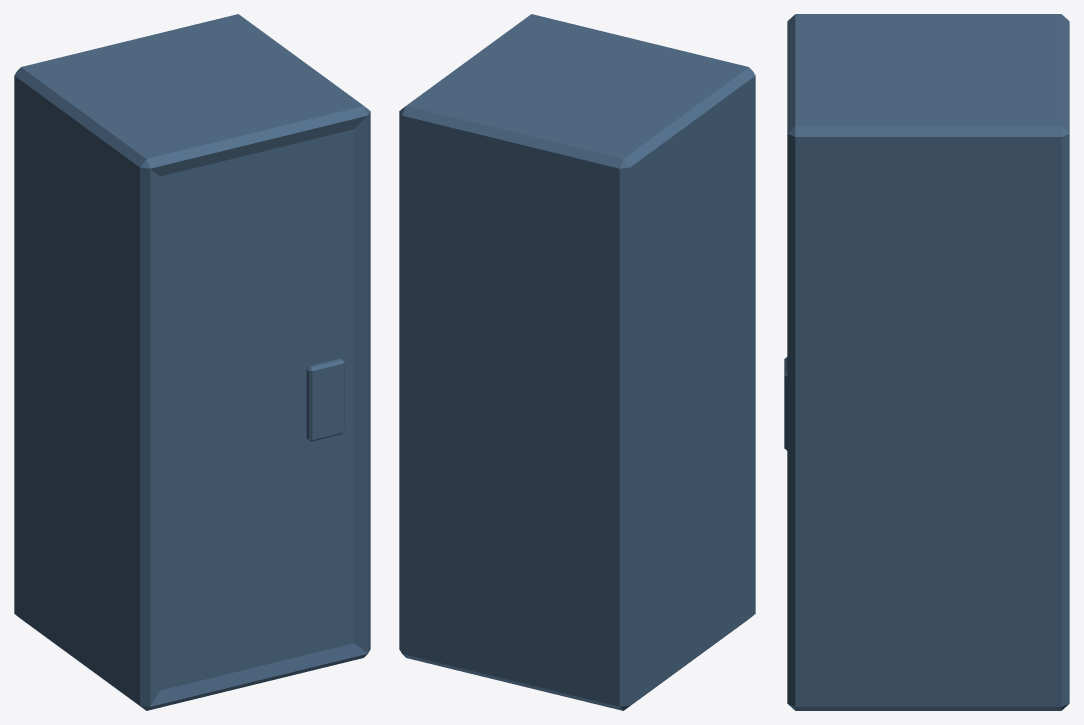
File: locker.glb
3 views of the same model, side by side, from view 1: azimuth 30°, elevation 25°; view 2: azimuth 150°, elevation 25°; view 3: azimuth 270°, elevation 25° (orthographic). The views are drawn at different scales.
Visible parts, largest first — view 1: locker; view 2: locker; view 3: locker.
Part boxes in pixels (x1,y1,x2,y2): locker: [14, 14, 370, 710]; locker: [399, 14, 755, 710]; locker: [784, 14, 1069, 710].
Bounding box in the file's own units: 1.4 × 3.2 × 1.41.
